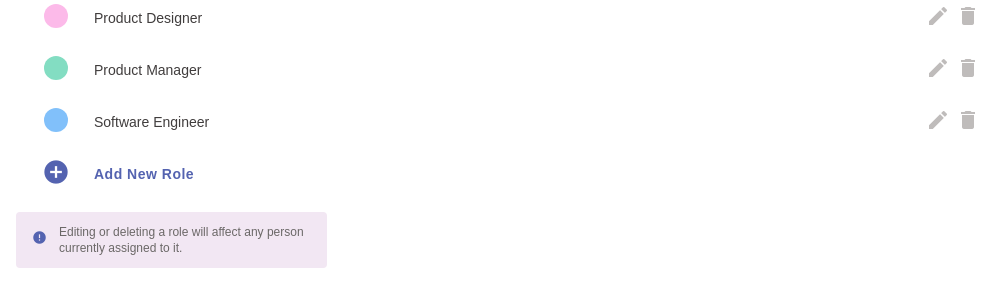
Test: My Roles Form › adding roles › should reenable save button after typing
The width and height of the screenshot is (997, 285).
Step 1. Click the text "Add New Role" → [144, 174], box 94,166 -> 194,182
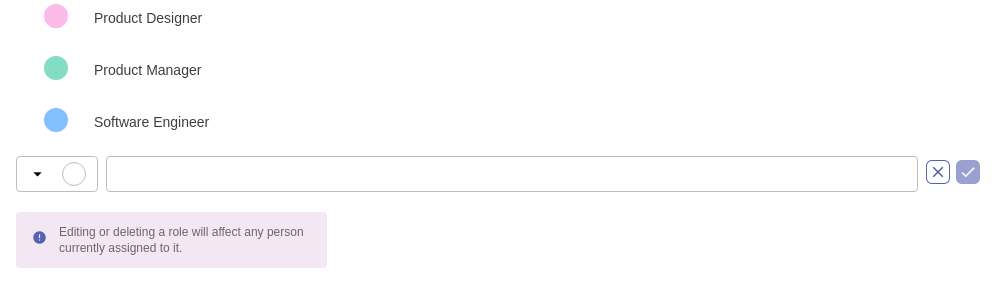
Expected: the button with test id "saveTagButton" is disabled, 956,160 -> 980,188
Step 2. Type "hello" into the field with test id "tagNameInput" → [512, 174], box 106,156 -> 918,192
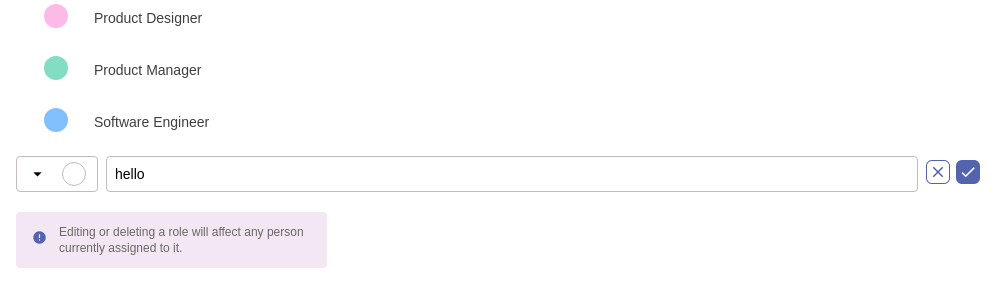
Expected: the button with test id "saveTagButton" is enabled, 956,160 -> 980,188
